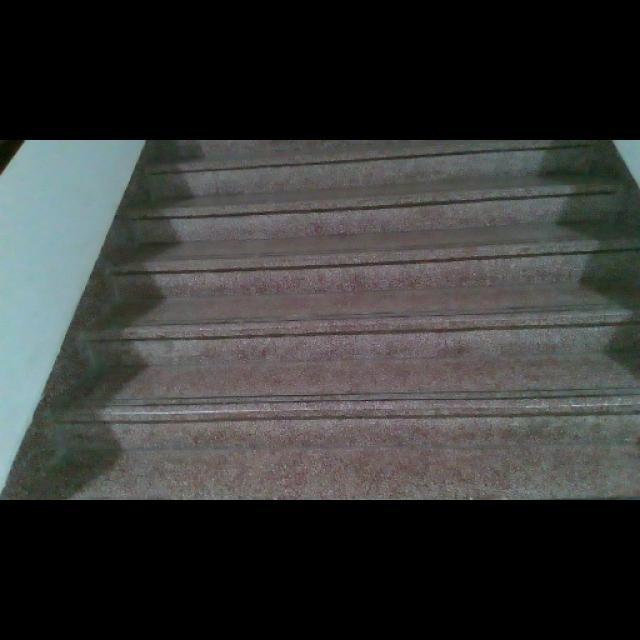Stairs: (3, 138, 638, 498)
